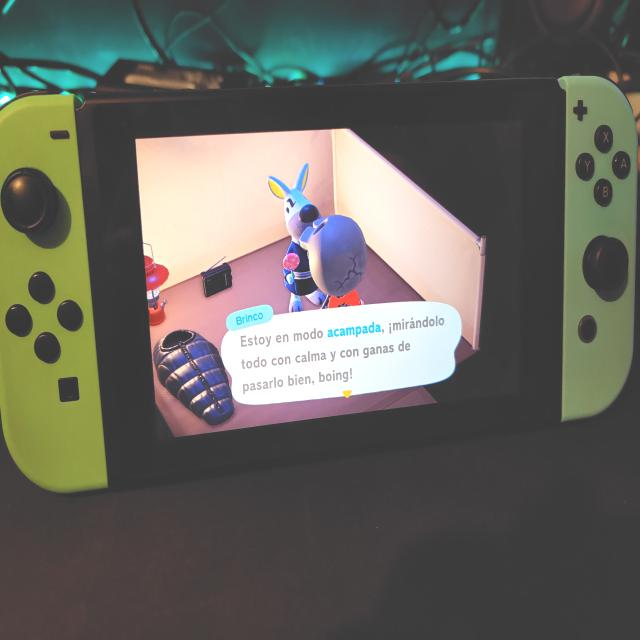text_bubble: (219, 298, 464, 408)
